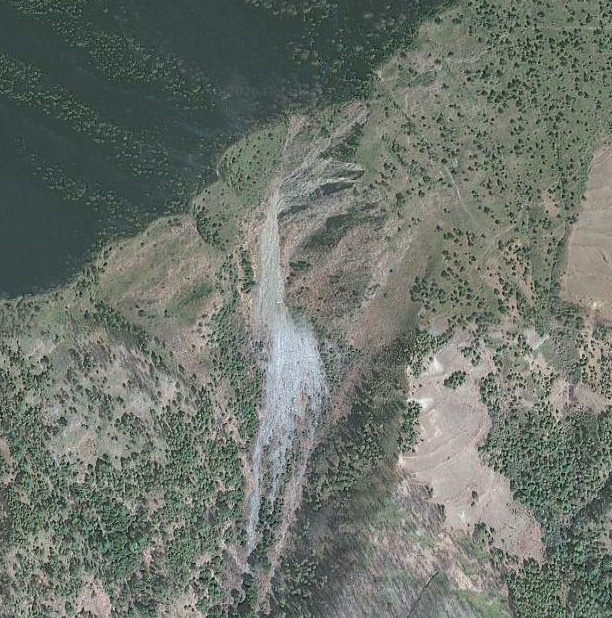slope: (244, 182, 327, 541)
